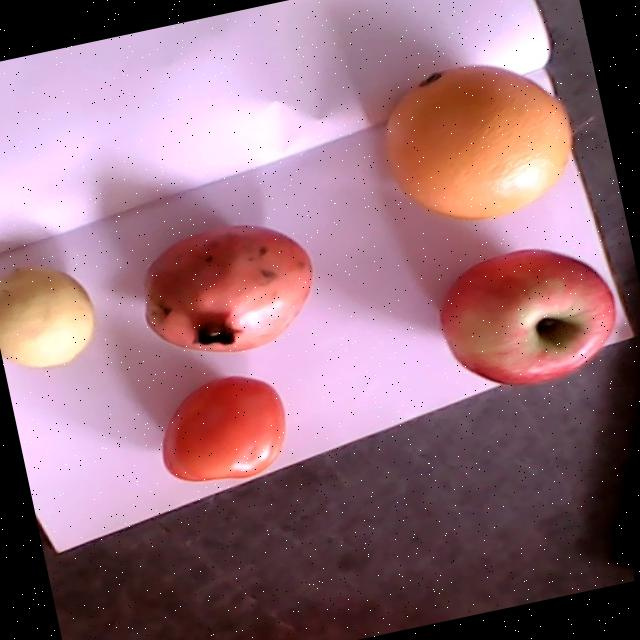apple: (441, 249, 615, 386)
lemon: (0, 266, 93, 368)
orange: (385, 66, 570, 219)
pomegranate: (145, 224, 311, 351)
tomato: (162, 376, 283, 481)
